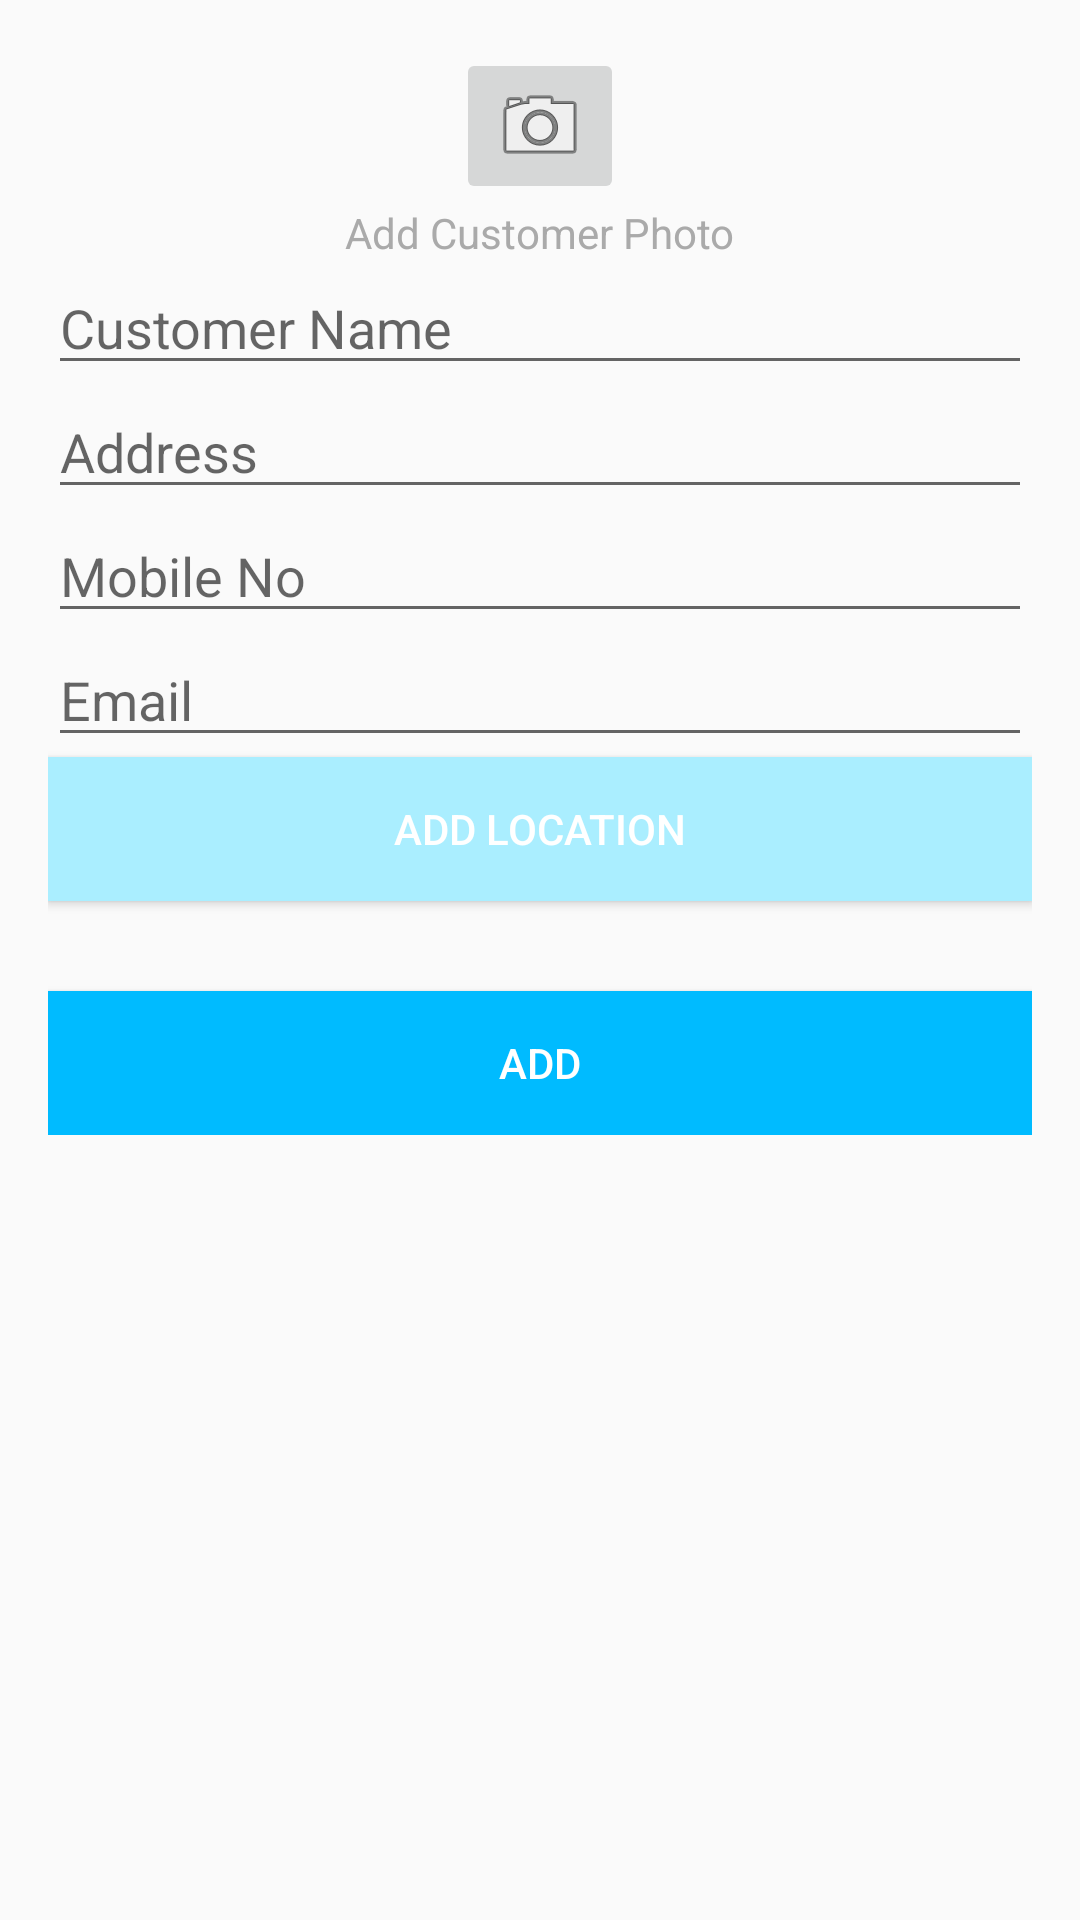

Screen size 1080 × 1920. Icon name, then its center in pixels as point (x, y):
camera: point (540, 126)
